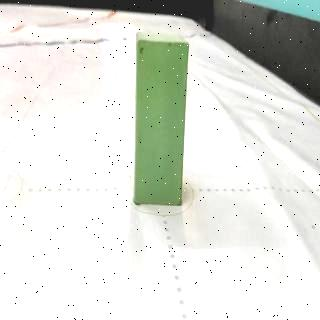greenbox: (134, 29, 190, 208)
